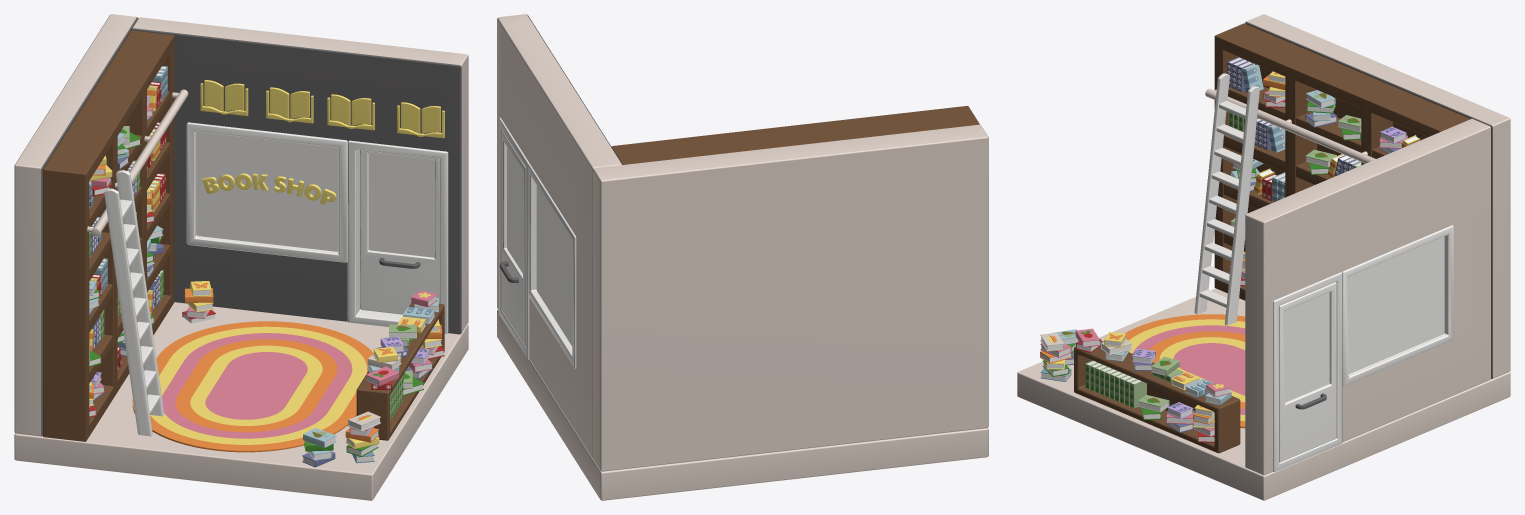
Rendered from Book_Shop_7.glb.
3 views of the same model, side by side, from view 1: azimuth 30°, elevation 25°; view 2: azimuth 150°, elevation 25°; view 3: azimuth 270°, elevation 25° (orthographic). The views are drawn at different scales.
Visible parts, largest first — view 1: Book_Shop_Wall_1, Book_Shop_Bookcase_1, Book_Shop_Carpet_1, Book_Shop_Floor_1, Book_Shop_Window_1, Book_Shop_Door_1, Book_Shop_Wall_2, Book_Shop_Ladder_1, Book_Shop_Shelf_1, Book_Shop_Book_Shop_Sign_1, Book_Shop_Book_Neon_Sign_4, Book_Shop_Book_Neon_Sign_3 (+9 smaller); view 2: Book_Shop_Wall_2, Book_Shop_Wall_1, Book_Shop_Floor_1, Book_Shop_Bookcase_1, Book_Shop_Window_1, Book_Shop_Door_1; view 3: Book_Shop_Wall_1, Book_Shop_Bookcase_1, Book_Shop_Floor_1, Book_Shop_Window_1, Book_Shop_Door_1, Book_Shop_Wall_2, Book_Shop_Ladder_1, Book_Shop_Carpet_1, Book_Shop_Shelf_1, Book_Shop_Books_3, Book_Shop_Books_16, Book_Shop_Books_22 (+10 smaller).
Boxes of the visible parts, bbox=[...] form: Book_Shop_Wall_1: bbox=[131, 17, 468, 334]; Book_Shop_Bookcase_1: bbox=[43, 30, 188, 441]; Book_Shop_Carpet_1: bbox=[132, 321, 373, 452]; Book_Shop_Floor_1: bbox=[14, 302, 468, 500]; Book_Shop_Window_1: bbox=[186, 122, 347, 262]; Book_Shop_Door_1: bbox=[347, 140, 448, 333]; Book_Shop_Wall_2: bbox=[14, 14, 138, 436]; Book_Shop_Ladder_1: bbox=[104, 170, 164, 436]; Book_Shop_Shelf_1: bbox=[356, 303, 444, 440]; Book_Shop_Book_Shop_Sign_1: bbox=[202, 173, 336, 204]; Book_Shop_Book_Neon_Sign_4: bbox=[200, 80, 248, 115]; Book_Shop_Book_Neon_Sign_3: bbox=[327, 94, 374, 130]; Book_Shop_Wall_2: bbox=[592, 124, 988, 471]; Book_Shop_Wall_1: bbox=[497, 14, 622, 457]; Book_Shop_Floor_1: bbox=[497, 309, 988, 500]; Book_Shop_Bookcase_1: bbox=[611, 106, 979, 164]; Book_Shop_Window_1: bbox=[528, 163, 576, 368]; Book_Shop_Door_1: bbox=[499, 117, 529, 359]; Book_Shop_Wall_1: bbox=[1245, 119, 1490, 475]; Book_Shop_Bookcase_1: bbox=[1205, 23, 1470, 300]; Book_Shop_Floor_1: bbox=[1017, 288, 1510, 500]; Book_Shop_Window_1: bbox=[1342, 225, 1453, 386]; Book_Shop_Door_1: bbox=[1273, 272, 1342, 472]; Book_Shop_Wall_2: bbox=[1245, 14, 1510, 378]; Book_Shop_Ladder_1: bbox=[1194, 73, 1259, 325]; Book_Shop_Carpet_1: bbox=[1124, 314, 1245, 428]; Book_Shop_Shelf_1: bbox=[1074, 340, 1240, 453]; Book_Shop_Books_3: bbox=[1040, 332, 1071, 381]; Book_Shop_Books_16: bbox=[1110, 371, 1146, 408]; Book_Shop_Books_22: bbox=[1227, 57, 1263, 93].
Size of the model in its own units: 7.04 by 4.4 by 7.04.
Materials: 1 (1 with a texture image).
